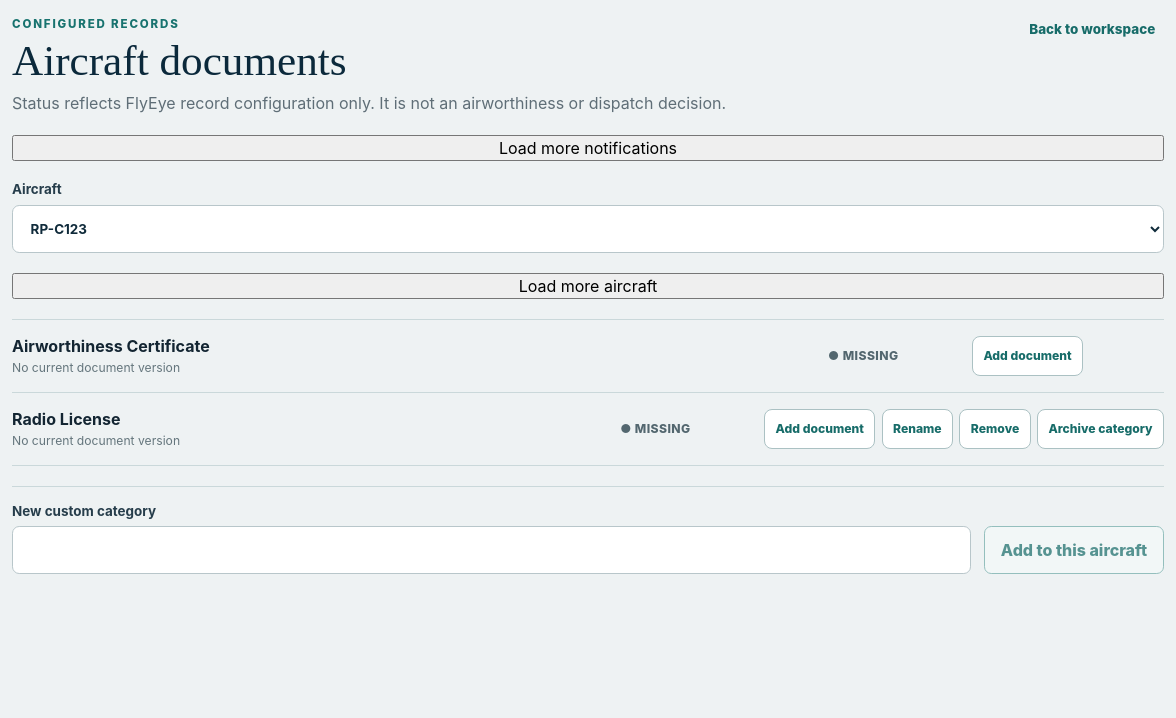
it: AircraftDocumentsPanel › loads later pages and edits the notification aircraft with Renew
The image size is (1176, 718).
Expected: the text "Radio License" is shown, [12,409,120,429]
Click the button "Load more aircraft".
click(588, 286)  # box [12,273,1164,299]
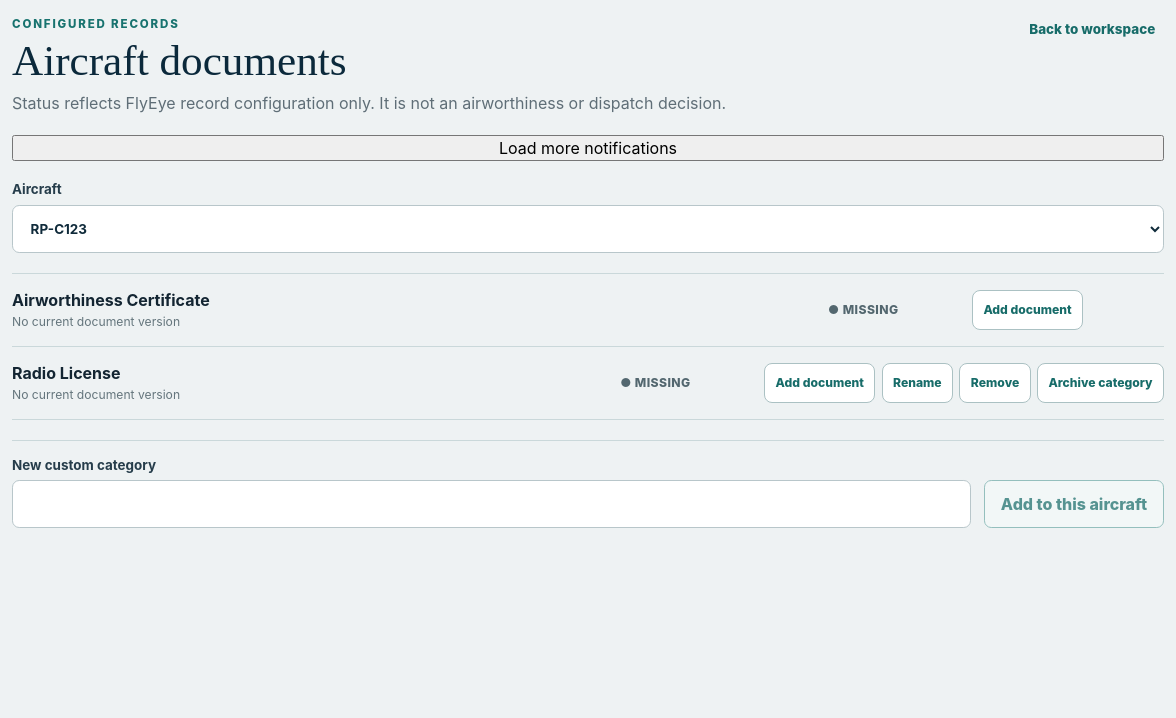
Expected: the button "Load more aircraft" is gone
Click the button "Load more notifications".
click(588, 148)  # box [12,135,1164,161]
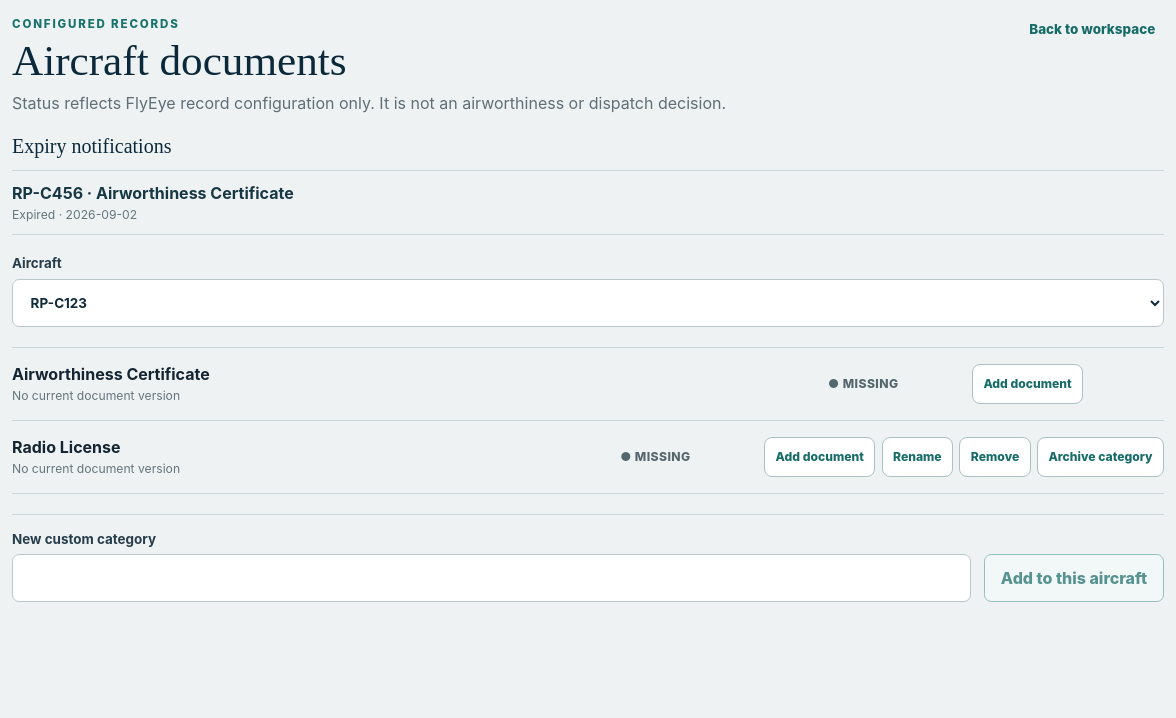
Click the button "RP-C456 · Airworthiness Certificate Expired · 2026-09-02".
click(48, 193)  # box [12,171,1164,235]
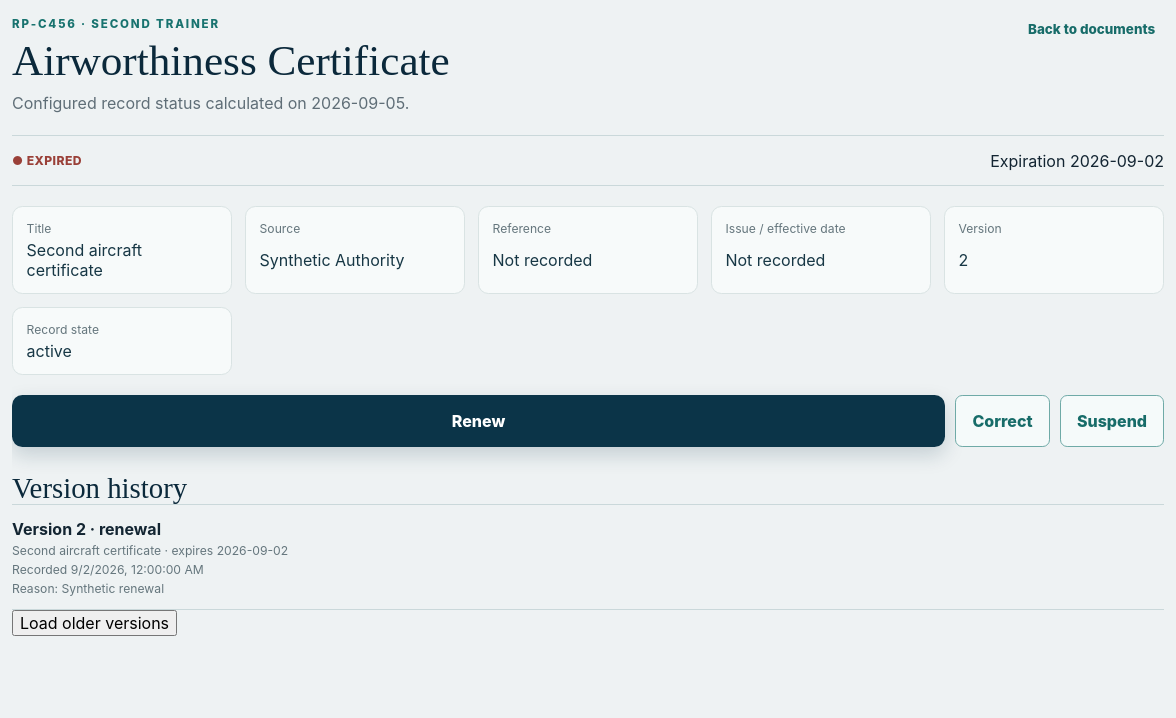
Expected: the text "Second aircraft certificate" is shown, [27,240,142,280]
Click the button "Load older versions".
click(94, 623)  # box [12,610,177,636]
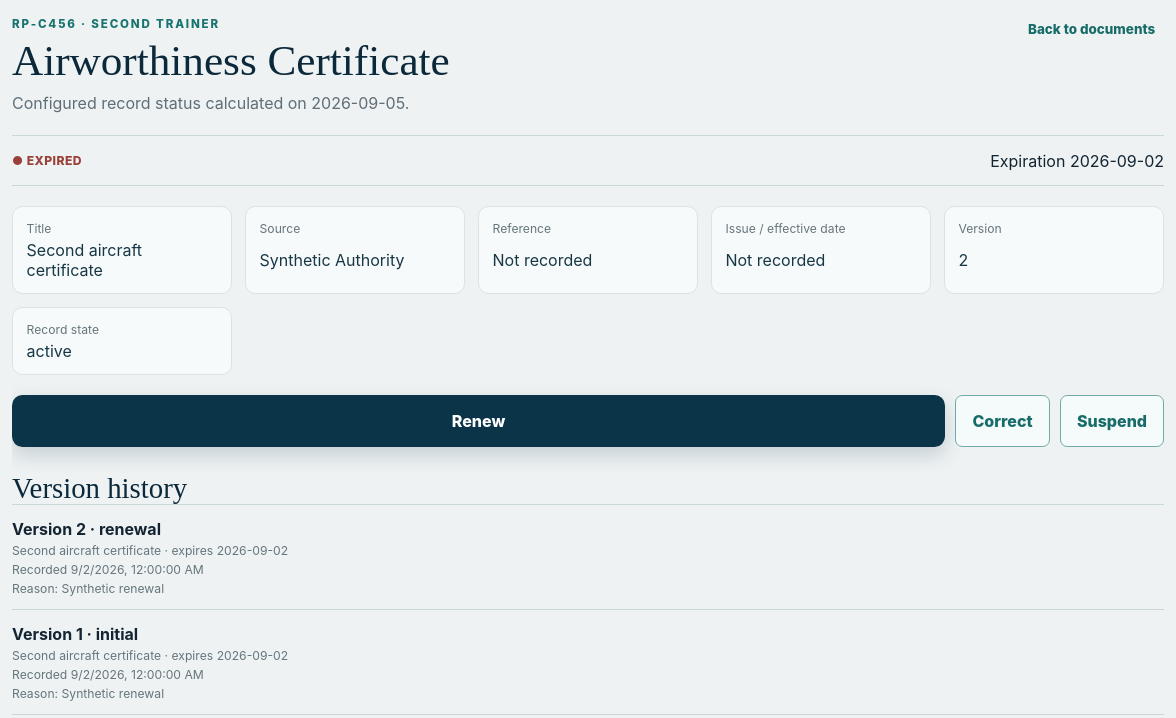
Expected: the text "Version 1 · initial" is shown, [12,624,138,644]
Expected: the button "Load older versions" is gone
Click the button "Renew".
click(478, 421)  # box [12,395,945,447]
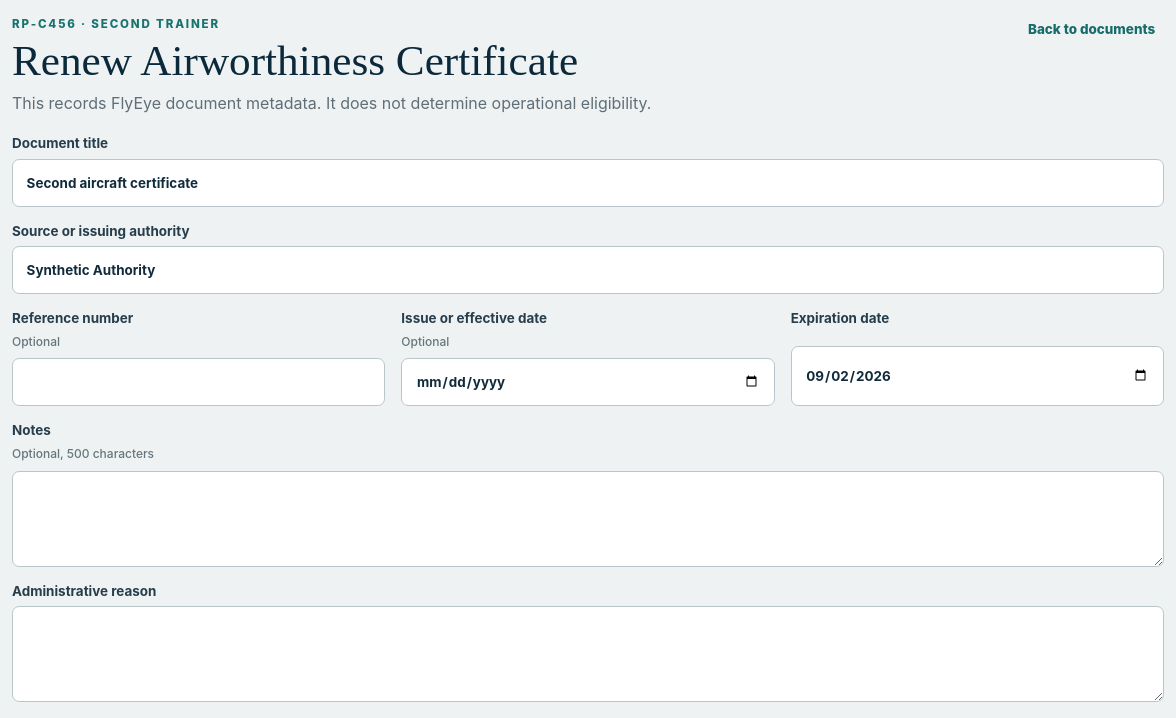
Expected: the text "RP-C456 · Second trainer" is shown, [12,17,220,31]
Expected: the field labelled "Document title" holds "Second aircraft certificate", [12,159,1164,207]
